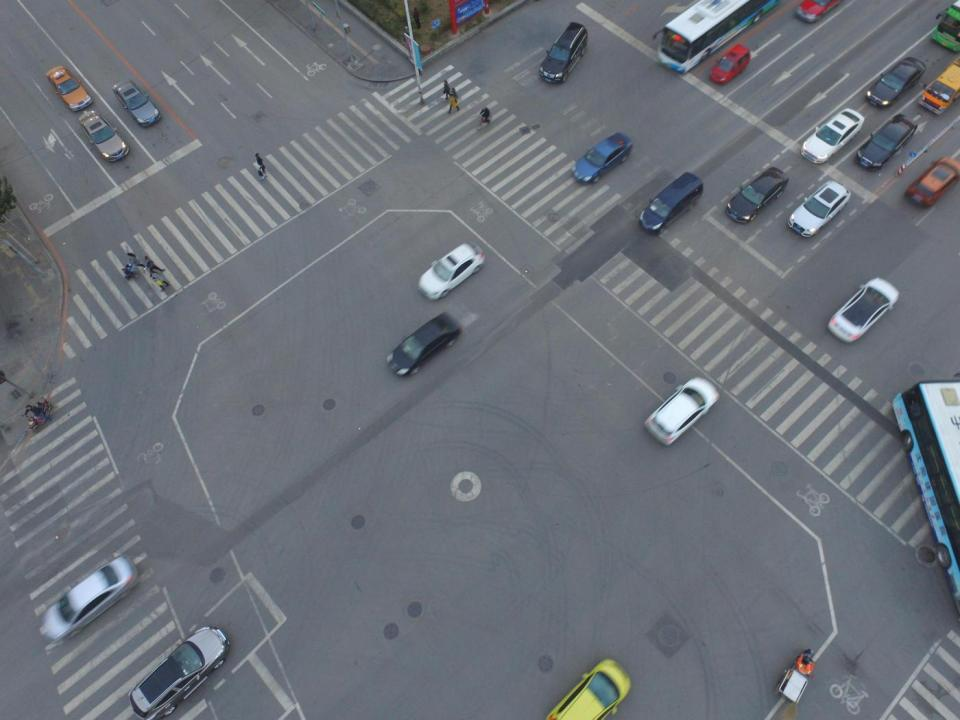bus: (892, 376, 959, 634), (653, 0, 781, 71), (928, 0, 960, 55)
car: (130, 626, 232, 717), (41, 554, 136, 650), (384, 311, 461, 381), (547, 658, 632, 719), (828, 276, 899, 348), (647, 378, 719, 448), (418, 242, 486, 301), (789, 180, 852, 241), (727, 166, 790, 224), (800, 108, 864, 164), (568, 132, 633, 186), (866, 58, 927, 111), (904, 156, 960, 212), (858, 116, 918, 168), (539, 22, 588, 85), (78, 112, 128, 166), (111, 78, 162, 125), (44, 64, 90, 114), (710, 43, 752, 85), (792, 0, 836, 26)
van: (638, 173, 704, 232), (921, 52, 960, 116)
